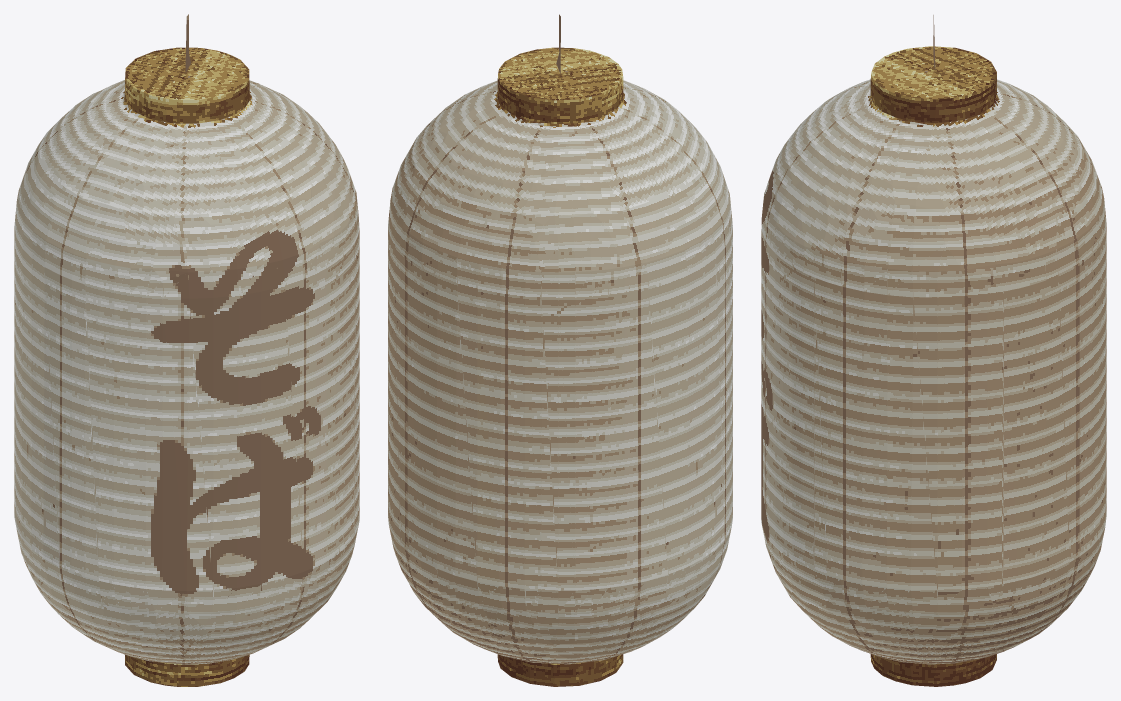
File: chochin.glb
3 renders of one model, left to right at view 1: azimuth 30°, elevation 25°; view 2: azimuth 150°, elevation 25°; view 3: azimuth 270°, elevation 25°, orthographic.
Visible parts, largest first — view 1: model_m; view 2: model_m; view 3: model_m.
Boxes of the visible parts, x1,y1,x2,y2 form: model_m: [14, 14, 359, 686]; model_m: [388, 14, 732, 686]; model_m: [761, 15, 1106, 686].
Size of the model in its own units: 19.34 by 40 by 19.34.
Materials: 1 (1 with a texture image).
